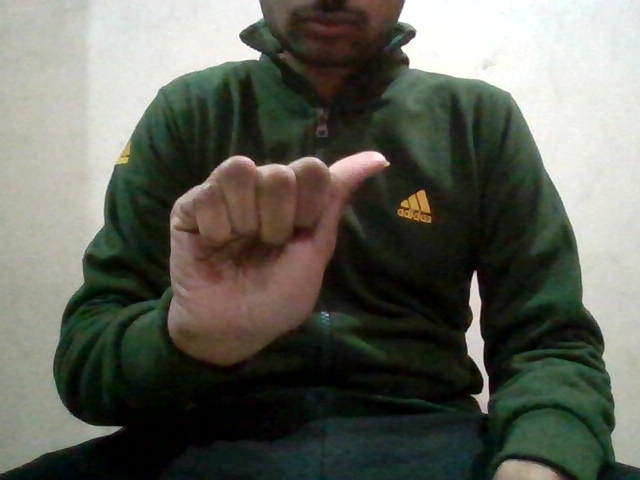A: (164, 148, 395, 361)
